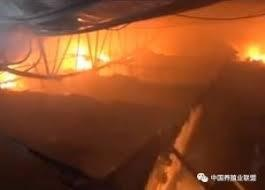fire: (0, 61, 29, 91), (241, 37, 265, 68)
